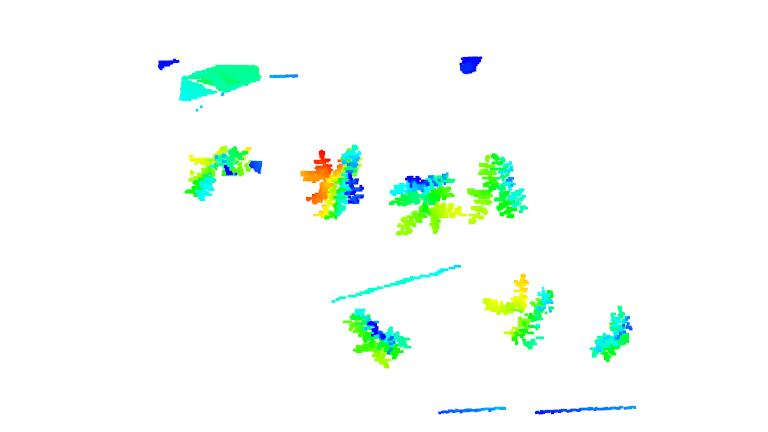chickpea: (482, 272, 560, 351), (296, 141, 370, 223), (387, 170, 466, 237), (464, 152, 530, 230), (344, 304, 416, 369), (182, 144, 256, 205), (586, 303, 638, 363)
